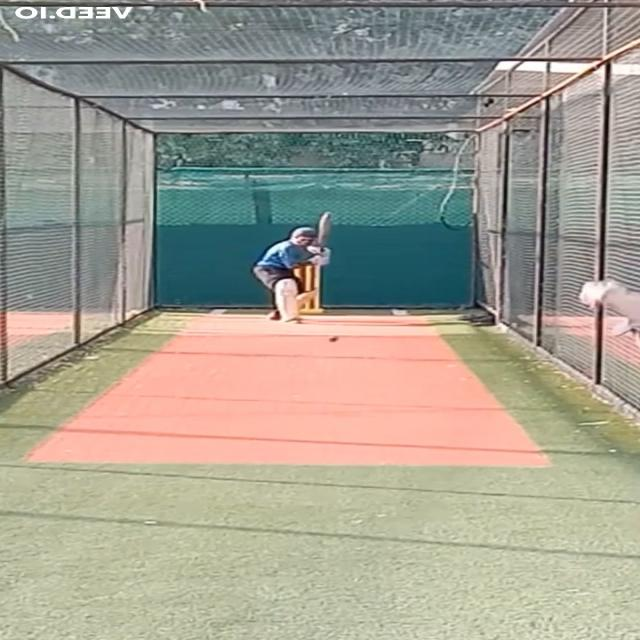ball: (327, 336, 340, 343)
stump: (292, 265, 324, 315)
